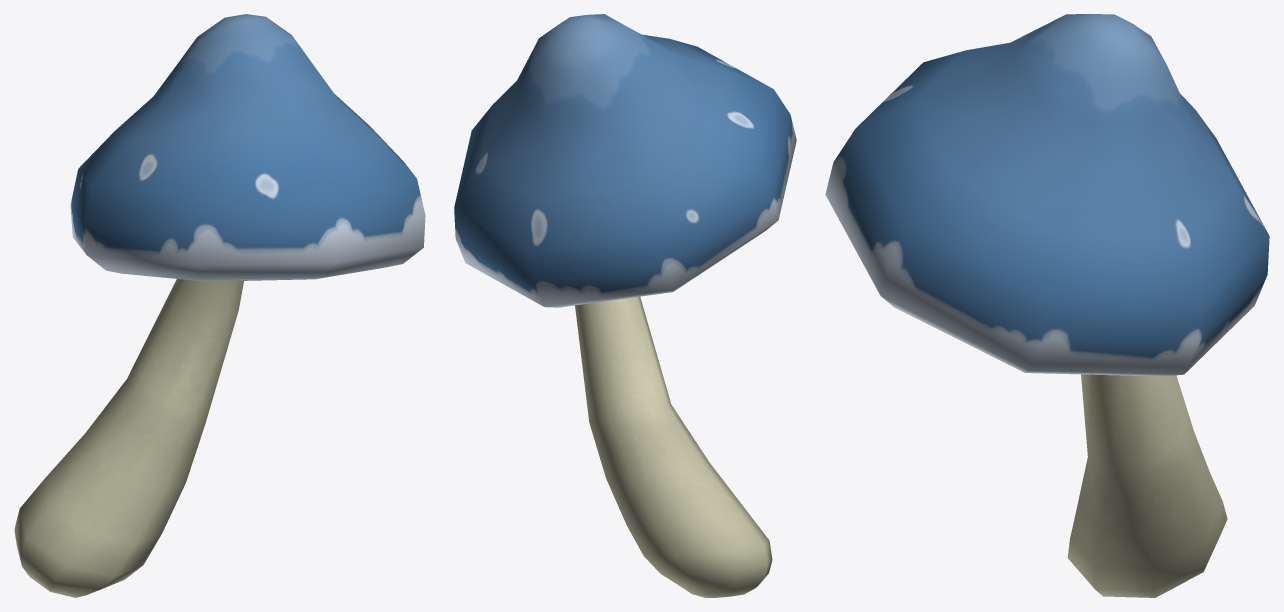
Rendered from seta pequeña 1.fbx.
3 views of the same model, side by side, from view 1: azimuth 30°, elevation 25°; view 2: azimuth 150°, elevation 25°; view 3: azimuth 270°, elevation 25° (orthographic). The views are drawn at different scales.
Parts seen in each view (by area): view 1: seta2/3, tronco seta2/3; view 2: seta2/3, tronco seta2/3; view 3: seta2/3, tronco seta2/3.
Part boxes in pixels (x1,y1,x2,y2): seta2/3: (70,14,425,281); tronco seta2/3: (14,279,243,597); seta2/3: (454,14,796,307); tronco seta2/3: (575,296,772,597); seta2/3: (825,14,1269,376); tronco seta2/3: (1067,374,1227,597).
Bounding box in the file's own units: 95.89 × 144 × 87.37.
